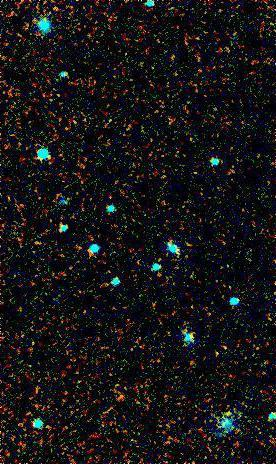star: (213, 396, 243, 426)
